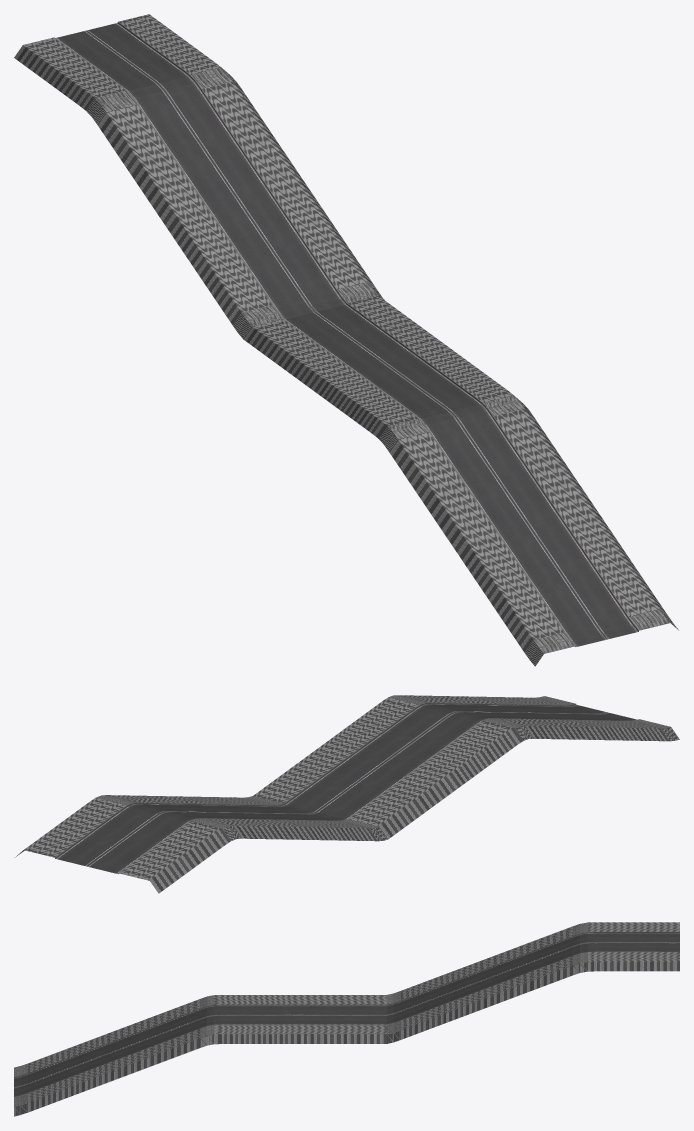
Rendered from road44_sfe.obj.
3 views of the same model, one above another, from view 1: azimuth 30°, elevation 25°; view 2: azimuth 150°, elevation 25°; view 3: azimuth 270°, elevation 25° (orthographic). The views are drawn at different scales.
Visible parts, largest first — view 1: road44_sfe; view 2: road44_sfe; view 3: road44_sfe.
Part boxes in pixels (left/top/right/bottom): road44_sfe: left=14, top=14, right=678, bottom=666; road44_sfe: left=15, top=695, right=679, bottom=893; road44_sfe: left=14, top=922, right=679, bottom=1116.
Size of the model in its own units: 22.93 by 36.01 by 143.
Materials: 2 (2 with a texture image).
